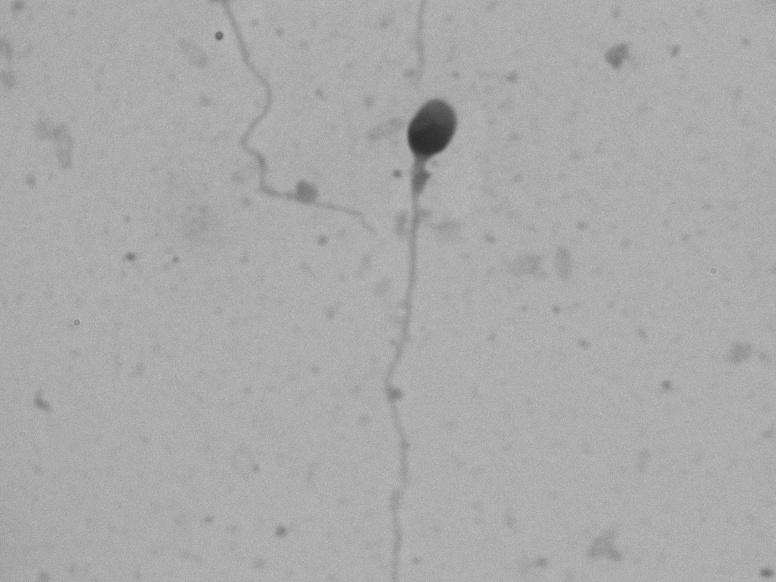Abnormal: (326, 79, 517, 579)
